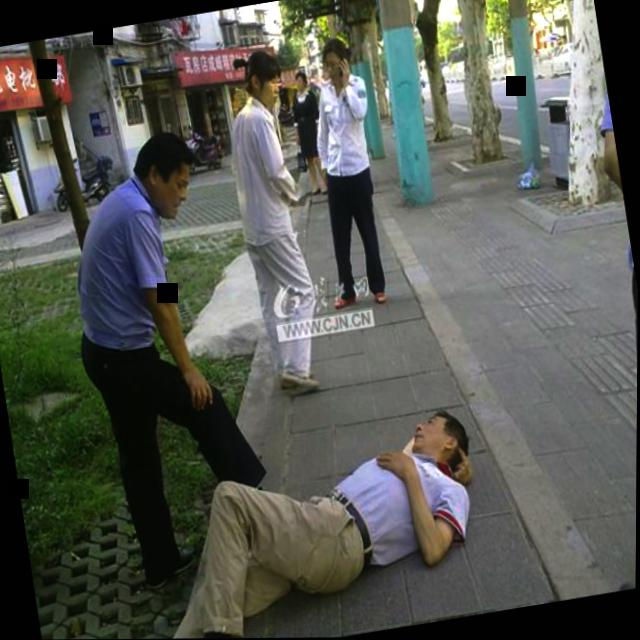Fall-Detected: (63, 384, 519, 640)
